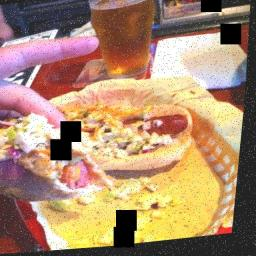hotdog: (118, 113, 195, 149)
